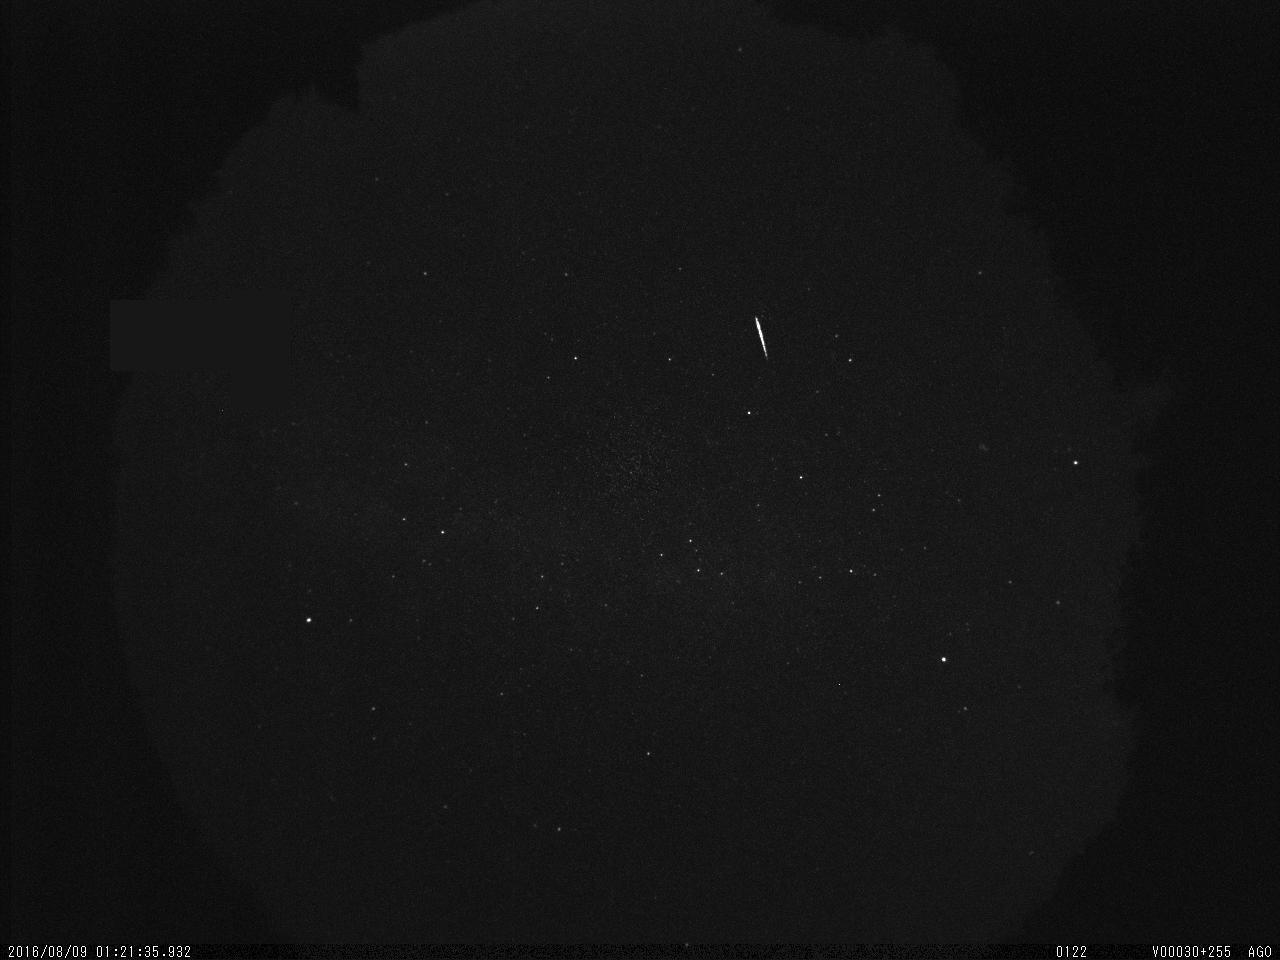meteor: (737, 312, 786, 367)
